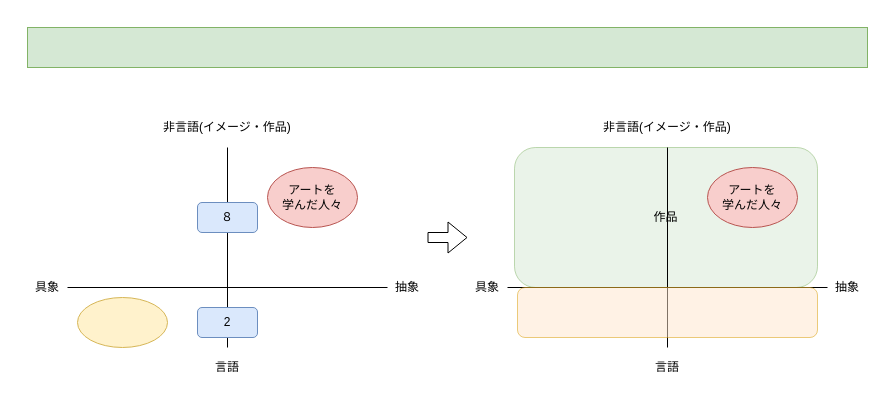
The diagram is 894 pixels wide and 404 high, and some of its shapes have lost their labels. The shapes that lost their labels are listed below. From the top down, each one's centre as x and y in pixels, then its label:
At point 447,47: "東京藝大美術学部 究極の思考 非言語と言語、抽象と具象".
At point 122,322: "私たち".
At point 667,312: "作品の言語化".
